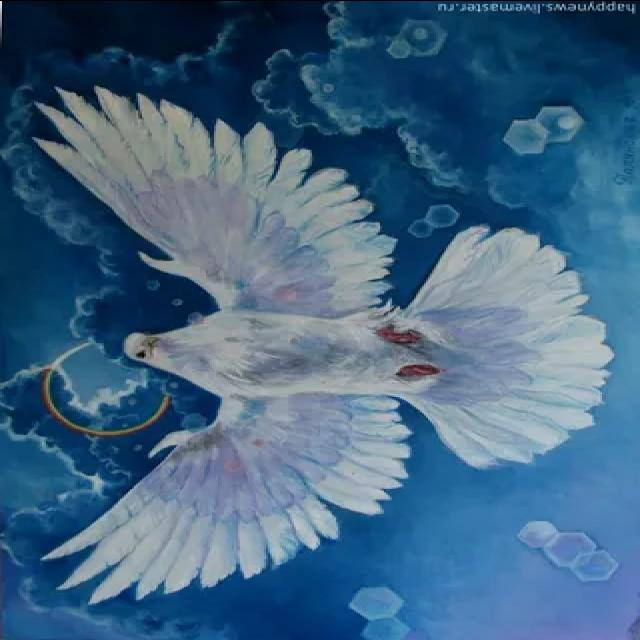pigeon: (28, 73, 610, 616)
